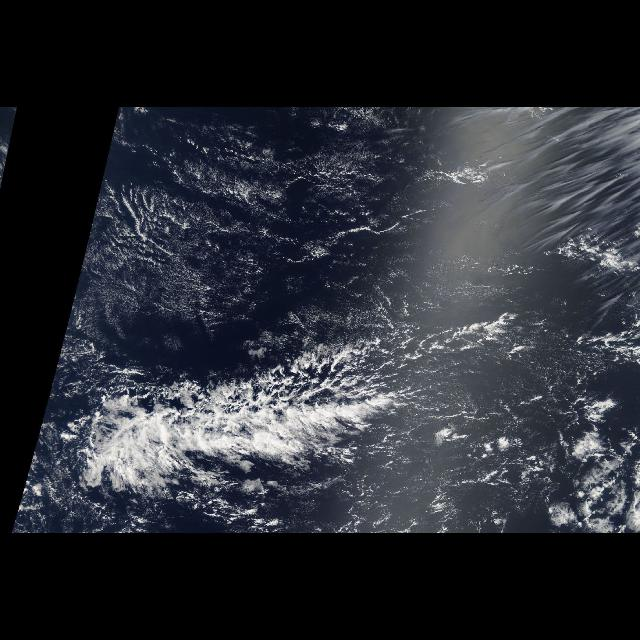Fish: (15, 282, 552, 522)
Gravel: (105, 220, 483, 324)
Sugar: (68, 113, 450, 329)
